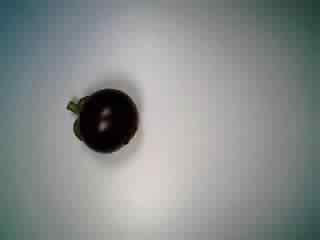mangosteen: (62, 80, 141, 157)
